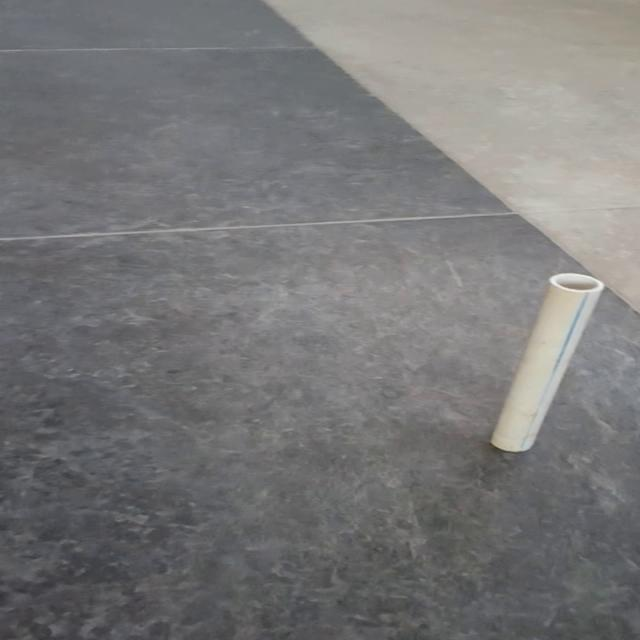Cube: (487, 272, 605, 452)
